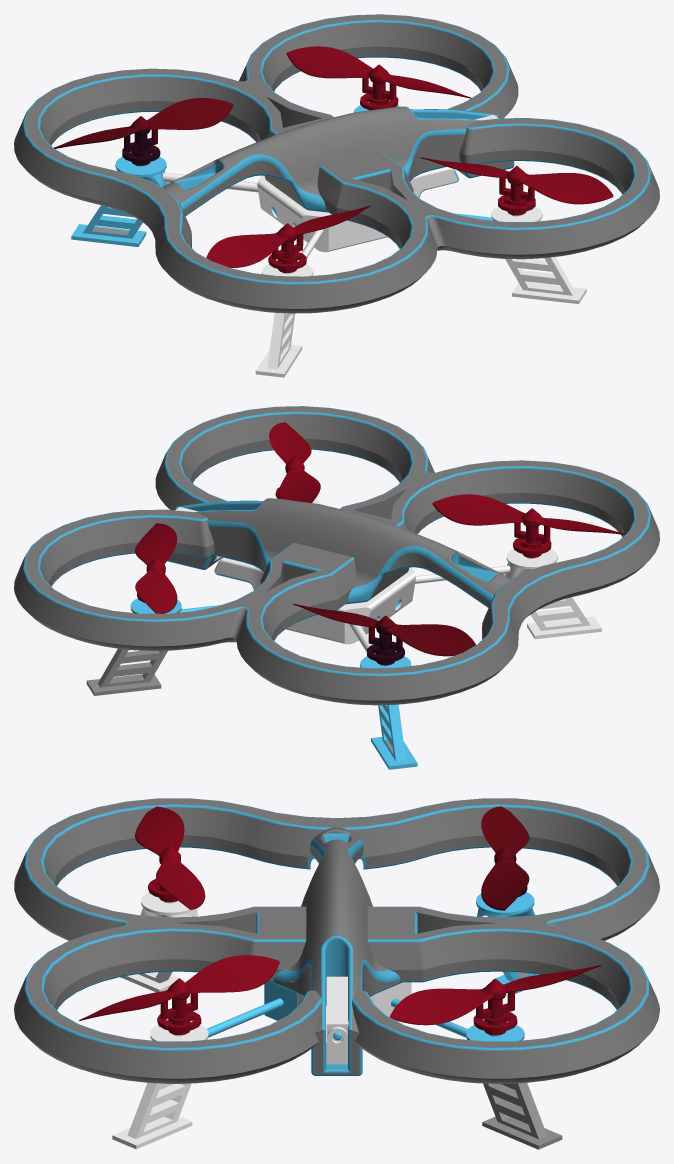
Rendered from rc_quadcopter.fbx.
3 renders of one model, top to bottom at view 1: azimuth 30°, elevation 25°; view 2: azimuth 150°, elevation 25°; view 3: azimuth 270°, elevation 25°, orthographic. The views are drawn at different scales.
Parts seen in each view (by area): view 1: Casing, Base, Prop2, Prop3, Prop1, Prop4, Leg2, Leg3, Leg4; view 2: Casing, Base, Prop4, Prop3, Leg4, Leg1, Prop1, Prop2, Leg3; view 3: Casing, Prop1, Prop2, Base, Prop4, Leg1, Leg2, Prop3, Leg4, Leg3.
Part boxes in pixels (bbox=[...]): Casing: bbox=[14, 14, 659, 313]; Base: bbox=[162, 114, 498, 261]; Prop2: bbox=[420, 157, 613, 215]; Prop3: bbox=[54, 98, 233, 165]; Prop1: bbox=[286, 46, 470, 110]; Prop4: bbox=[206, 205, 370, 272]; Leg2: bbox=[491, 206, 586, 304]; Leg3: bbox=[71, 156, 169, 246]; Leg4: bbox=[255, 261, 313, 377]; Casing: bbox=[14, 406, 659, 705]; Base: bbox=[175, 507, 510, 653]; Prop4: bbox=[432, 494, 625, 557]; Prop3: bbox=[293, 603, 475, 665]; Leg4: bbox=[503, 549, 601, 639]; Leg1: bbox=[86, 598, 181, 695]; Prop1: bbox=[135, 523, 177, 613]; Prop2: bbox=[269, 422, 320, 502]; Leg3: bbox=[360, 653, 417, 769]; Casing: bbox=[14, 798, 659, 1083]; Prop1: bbox=[390, 965, 600, 1035]; Prop2: bbox=[79, 955, 279, 1035]; Base: bbox=[188, 915, 487, 1064]; Prop4: bbox=[135, 806, 205, 909]; Leg1: bbox=[466, 1022, 562, 1149]; Leg2: bbox=[112, 1022, 208, 1149]; Prop3: bbox=[481, 806, 529, 910]; Leg4: bbox=[120, 892, 198, 992]; Leg3: bbox=[476, 892, 538, 993].
Bounding box in the file's own units: 58.72 × 17.95 × 61.54.
